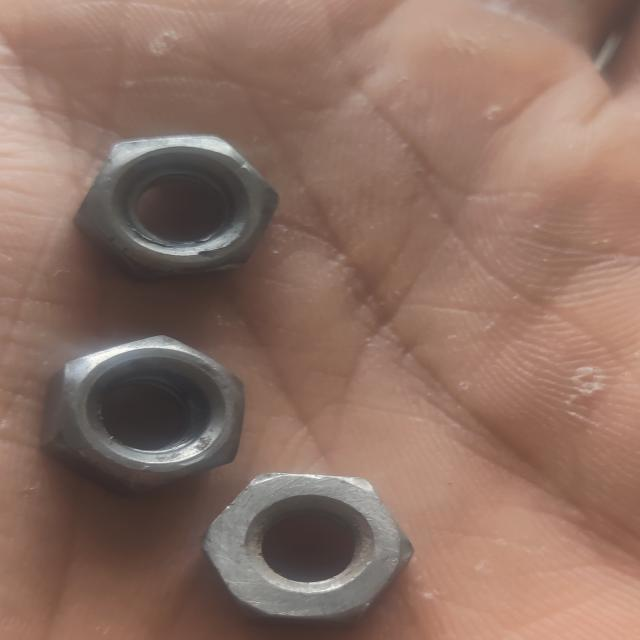disinfected nut: (203, 472, 413, 622), (43, 335, 243, 490), (77, 135, 277, 278)
